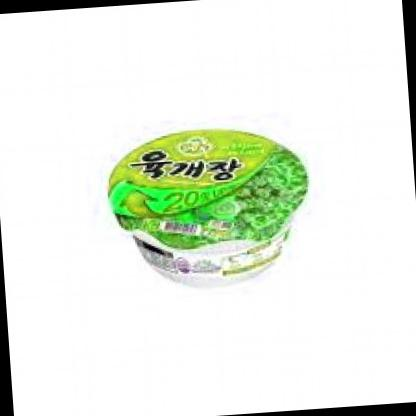Ramen: (102, 122, 322, 300)
